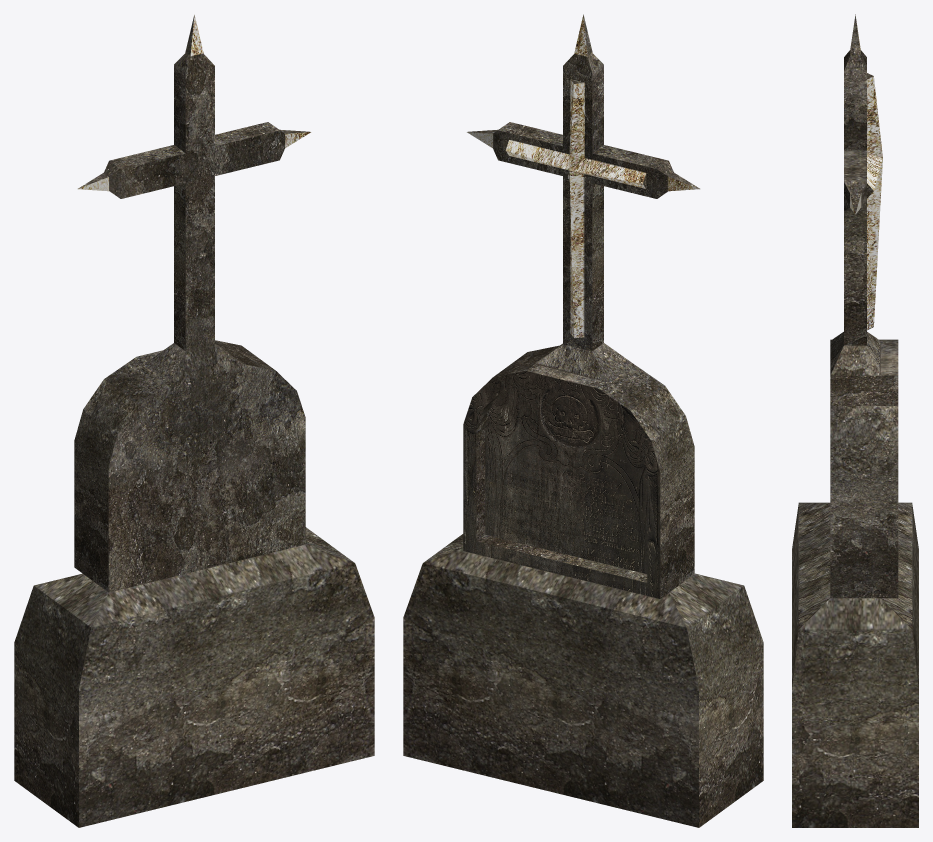
The model's file is Headstone_03.fbx.
The picture shows the model from 3 angles, left to right: view 1: azimuth 30°, elevation 25°; view 2: azimuth 150°, elevation 25°; view 3: azimuth 270°, elevation 25°; orthographic projection.
Parts seen in each view (by area): view 1: headstone3; view 2: headstone3; view 3: headstone3.
Part boxes in pixels (x1,y1,x2,y2): headstone3: [14, 14, 374, 827]; headstone3: [403, 14, 763, 827]; headstone3: [792, 14, 918, 827].
Size of the model in its own units: 1.12 by 2.72 by 0.4219.
